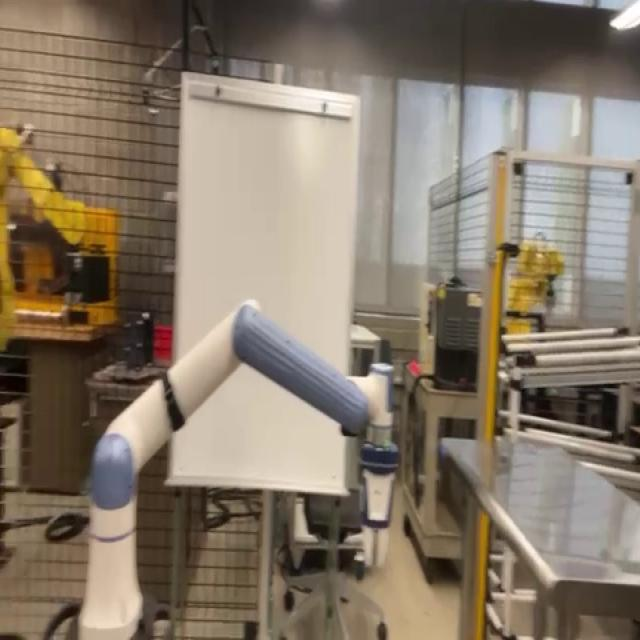robot: (49, 298, 394, 638)
